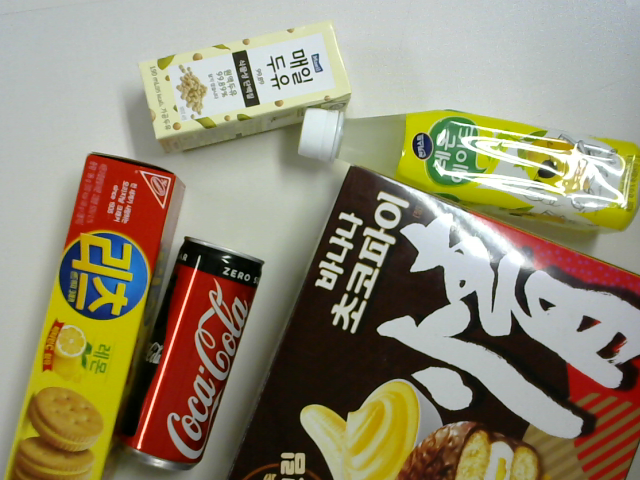99.89_Soymilk: (137, 14, 355, 157)
Choco_Pie_Banana: (209, 157, 639, 480)
Coca_Cola_Zero_Can_250ml: (122, 234, 268, 480)
Ritz_Remon_96g: (4, 146, 191, 480)
Sunkist_Lemonaid_Pet: (283, 100, 640, 244)
